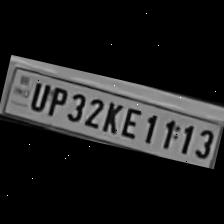1: (155, 115, 182, 152), (137, 108, 162, 146), (172, 119, 197, 156)
2: (80, 92, 106, 129)
3: (190, 122, 218, 160), (62, 88, 87, 124)
E: (116, 102, 143, 140)
K: (97, 97, 123, 134)
P: (42, 82, 69, 119)
U: (23, 78, 50, 114)
